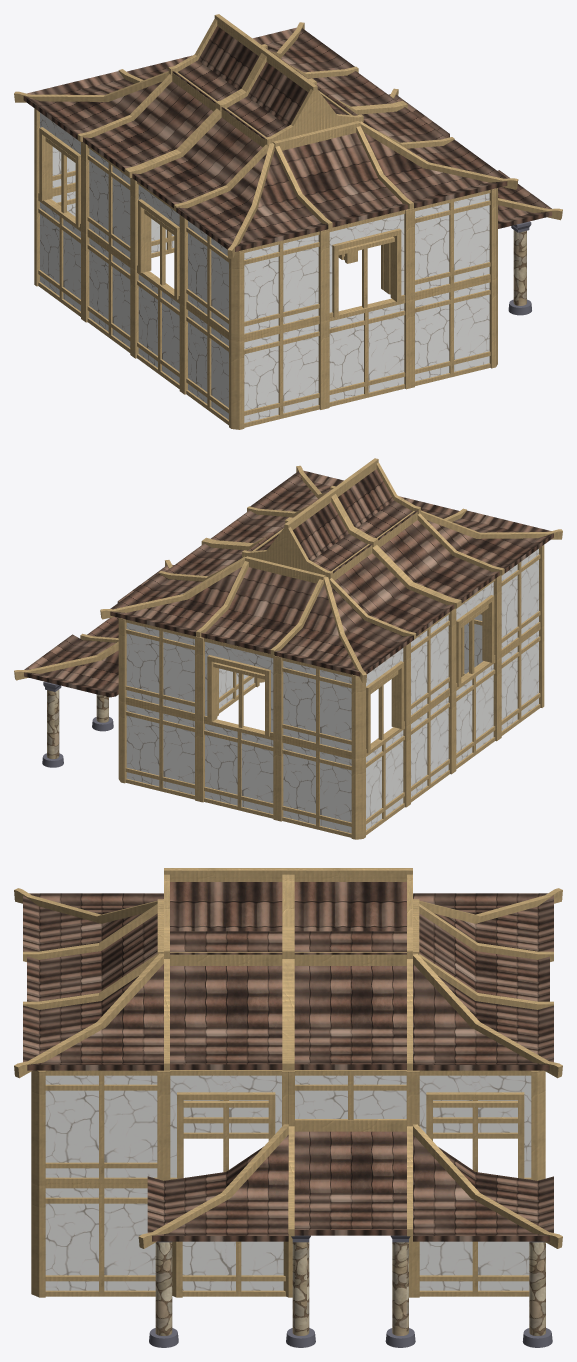
File: OrientalHouse.fbx
3 views of the same model, one above another, from view 1: azimuth 30°, elevation 25°; view 2: azimuth 150°, elevation 25°; view 3: azimuth 270°, elevation 25° (orthographic). The views are drawn at different scales.
Visible parts, largest first — view 1: roofSide_221, wall_paperStraight_201, wall_paperStraight_207, wall_paperStraight_208, wall_paperStraight_200, wall_paperStraight_202, roofCorner_218, roofSide_226, roofSide_225, roof_227, roofCorner_217, wall_paperStraight_199 (+19 smaller); view 2: roofSide_222, wall_paperStraight_195, wall_paperStraight_204, wall_paperStraight_194, wall_paperStraight_203, wall_paperStraight_193, roofCorner_219, roofSide_225, roofSide_226, roof_228, roofCorner_220, roofCorner_218 (+20 smaller); view 3: wall_paperStraight_209, roofSide_223, roofSide_224, roofSide_236, wall_paperStraight_189, roofCorner_234, roofCorner_235, roofCorner_217, roofCorner_220, roof_227, roof_228, roofSide_221 (+17 smaller).
Boxes of the visible parts, left/top/right/bottom form: roofSide_221: left=272, top=121, right=413, bottom=229; wall_paperStraight_201: left=325, top=298, right=410, bottom=408; wall_paperStraight_207: left=231, top=230, right=324, bottom=340; wall_paperStraight_208: left=410, top=188, right=497, bottom=298; wall_paperStraight_200: left=239, top=320, right=324, bottom=429; wall_paperStraight_202: left=410, top=278, right=495, bottom=387; roofCorner_218: left=176, top=143, right=328, bottom=258; roofSide_226: left=127, top=107, right=272, bottom=211; roofSide_225: left=77, top=71, right=218, bottom=175; roof_227: left=218, top=50, right=363, bottom=145; roofCorner_217: left=359, top=121, right=518, bottom=208; wall_paperStraight_199: left=182, top=304, right=239, bottom=429; roofSide_222: left=196, top=556, right=325, bottom=655; wall_paperStraight_195: left=277, top=738, right=363, bottom=839; wall_paperStraight_204: left=277, top=656, right=363, bottom=757; wall_paperStraight_194: left=199, top=719, right=277, bottom=820; wall_paperStraight_203: left=118, top=618, right=199, bottom=719; wall_paperStraight_193: left=120, top=700, right=198, bottom=801; roofCorner_219: left=274, top=576, right=413, bottom=682; roofSide_225: left=325, top=544, right=459, bottom=639; roofSide_226: left=375, top=511, right=504, bottom=606; roof_228: left=242, top=491, right=375, bottom=578; roofCorner_220: left=100, top=556, right=245, bottom=636; roofCorner_218: left=420, top=510, right=562, bottom=572; wall_paperStraight_209: left=31, top=1070, right=165, bottom=1184; roofSide_223: left=288, top=952, right=412, bottom=1070; roofSide_224: left=164, top=952, right=288, bottom=1070; roofSide_236: left=288, top=1119, right=412, bottom=1236; wall_paperStraight_189: left=31, top=1181, right=155, bottom=1297; roofCorner_234: left=138, top=1124, right=288, bottom=1248; roofCorner_235: left=413, top=1124, right=562, bottom=1248; roofCorner_217: left=14, top=953, right=163, bottom=1078; roofCorner_220: left=413, top=953, right=562, bottom=1078; roof_227: left=164, top=868, right=288, bottom=958; roof_228: left=288, top=868, right=412, bottom=958; roofSide_221: left=23, top=899, right=163, bottom=1009.
Size of the model in its own units: 45.05 by 30.63 by 44.05.
Materials: 5 (4 with a texture image).
